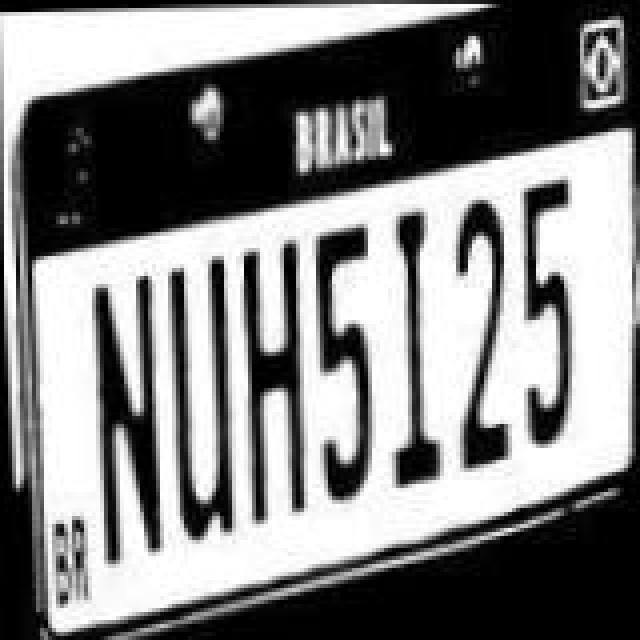2: (442, 168, 526, 456)
5: (308, 198, 388, 486), (518, 156, 594, 428)
H: (234, 218, 322, 510)
I: (376, 180, 456, 472)
N: (88, 254, 176, 566)
U: (158, 234, 246, 538)
